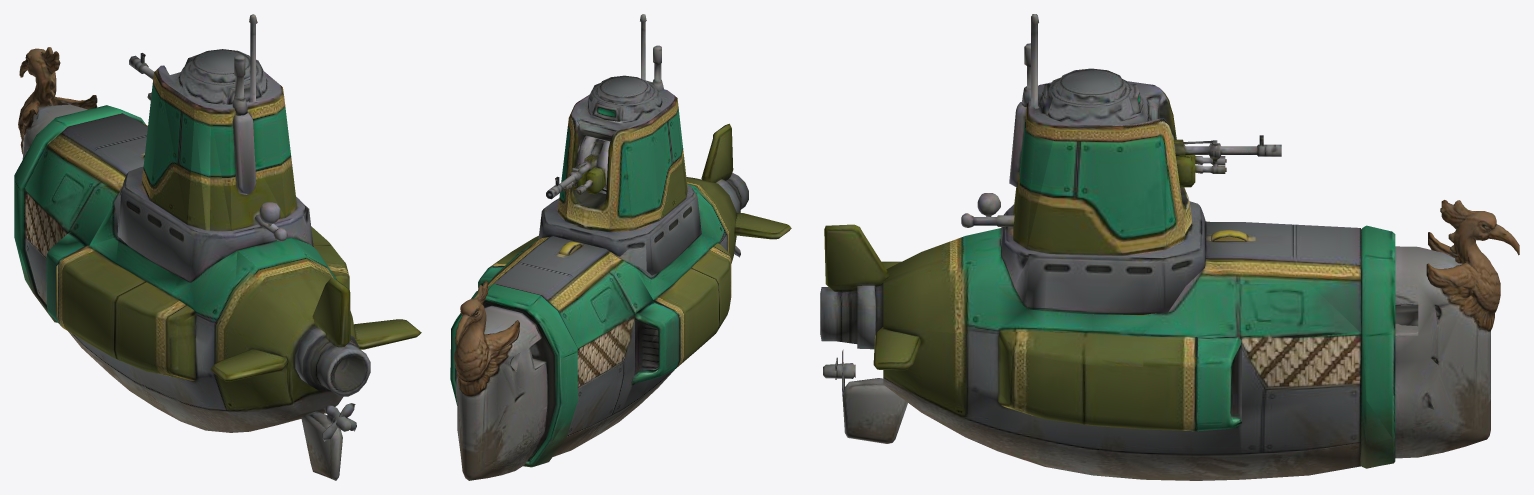
File: sampan.glb
3 renders of one model, left to right at view 1: azimuth 30°, elevation 25°; view 2: azimuth 150°, elevation 25°; view 3: azimuth 270°, elevation 25°, orthographic. The views are drawn at different scales.
Parts seen in each view (by area): view 1: Body, Trim; view 2: Body, Trim; view 3: Body, Trim.
Boxes of the visible parts, x1,y1,x2,y2 form: Body: (14, 14, 421, 480); Trim: (14, 73, 336, 326); Body: (450, 14, 791, 480); Trim: (450, 98, 727, 465); Body: (820, 14, 1519, 480); Trim: (965, 94, 1395, 440).
Size of the model in its own units: 3.2 by 5.53 by 7.82.
Materials: 2 (2 with a texture image).
